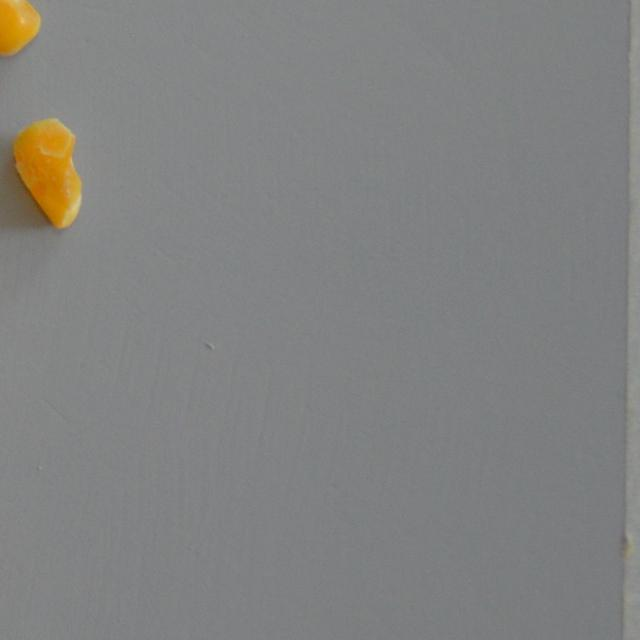pelicula: (10, 117, 87, 230), (0, 0, 44, 58)
